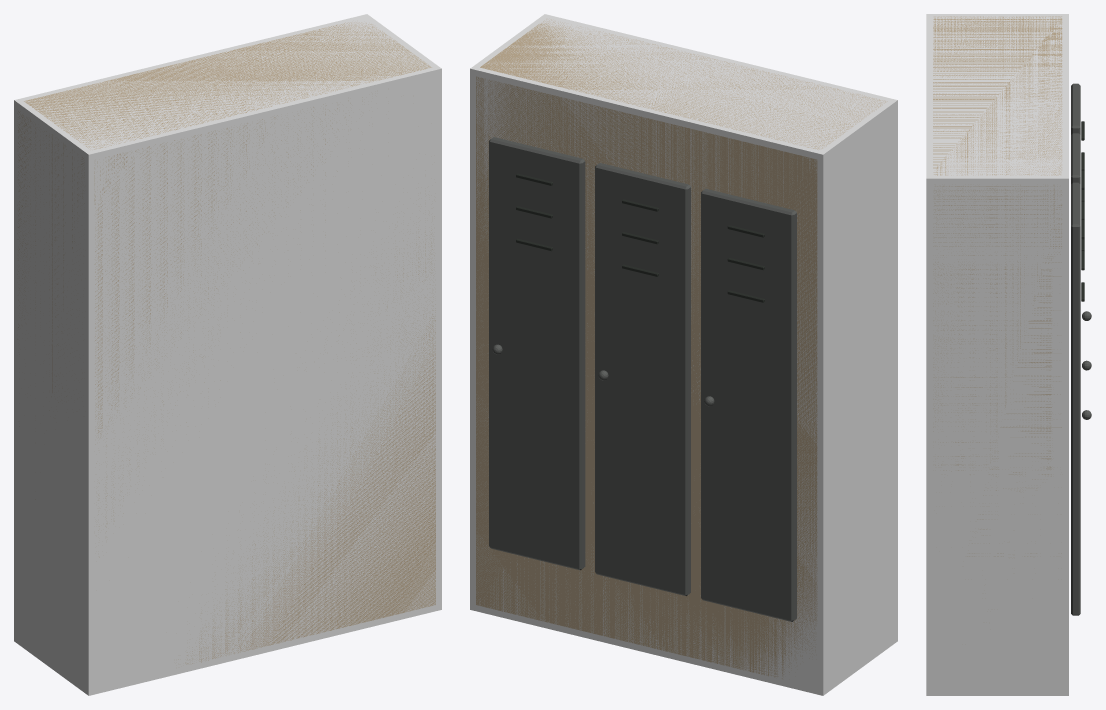
Rendered from standard.glb.
3 views of the same model, side by side, from view 1: azimuth 30°, elevation 25°; view 2: azimuth 150°, elevation 25°; view 3: azimuth 270°, elevation 25° (orthographic). The views are drawn at different scales.
Visible parts, largest first — view 1: COL_LOCKER_UNITS_STANDARD, Lockers_Carcass.001; view 2: COL_LOCKER_UNITS_STANDARD, Lockers_Carcass.001, Locker_Door_0_2, Locker_Door_0_1.001, Locker_Door_0_0.001; view 3: COL_LOCKER_UNITS_STANDARD, Lockers_Carcass.001, Locker_Door_0_2, Locker_Door_0_0.001, Locker_Door_0_1.001.
Part boxes in pixels (box(x1,y1,x2,y2)): COL_LOCKER_UNITS_STANDARD: box(14, 14, 441, 695); Lockers_Carcass.001: box(17, 22, 435, 664); COL_LOCKER_UNITS_STANDARD: box(470, 14, 897, 695); Lockers_Carcass.001: box(476, 19, 887, 678); Locker_Door_0_2: box(489, 137, 585, 570); Locker_Door_0_1.001: box(595, 163, 690, 596); Locker_Door_0_0.001: box(701, 188, 796, 621); COL_LOCKER_UNITS_STANDARD: box(926, 14, 1068, 695); Lockers_Carcass.001: box(933, 16, 1062, 556); Locker_Door_0_2: box(1071, 182, 1080, 615); Locker_Door_0_0.001: box(1071, 83, 1080, 134); Locker_Door_0_1.001: box(1071, 133, 1080, 183).
Size of the model in its own units: 1.42 by 2.08 by 0.603.
